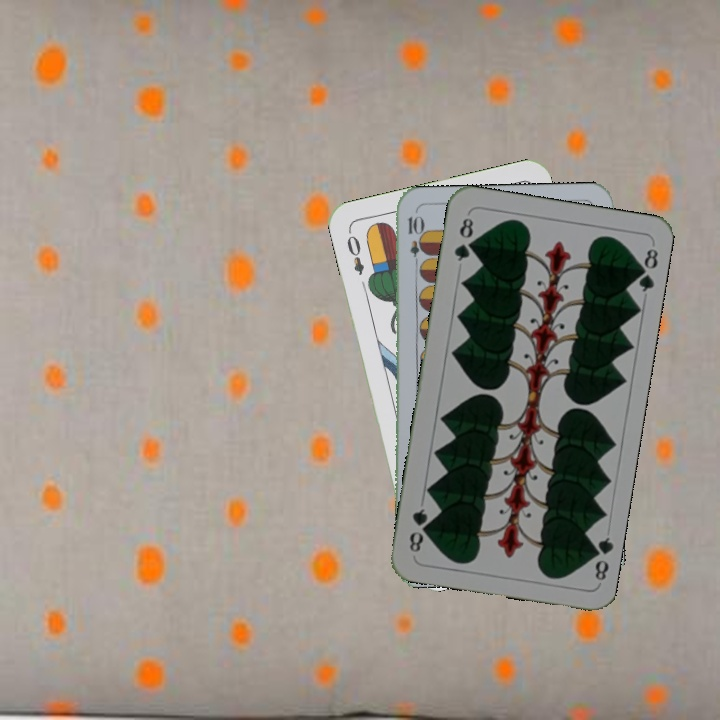E10: (404, 212, 423, 271)
EO: (342, 226, 367, 278)
G8: (585, 533, 615, 586), (450, 213, 476, 264)
